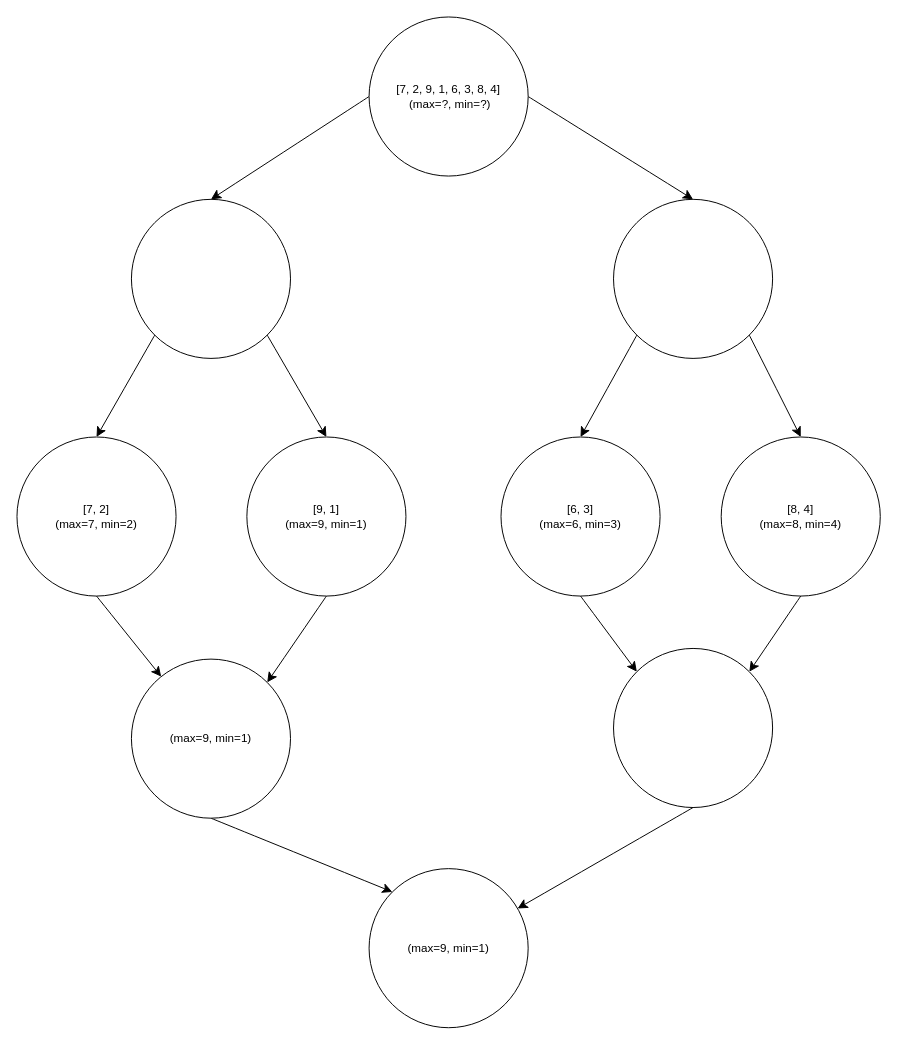
The diagram is 897 pixels wide and 1045 high, and some of its shapes have lost their labels. Here are the shapes that lost their labels. From the top down, the box of each, then its label:
(130, 198, 291, 358): [7, 2, 9, 1] (max=?, min=?)
(613, 198, 773, 358): [6, 3, 8, 4] (max=?, min=?)
(613, 647, 773, 808): (max=8, min=3)
